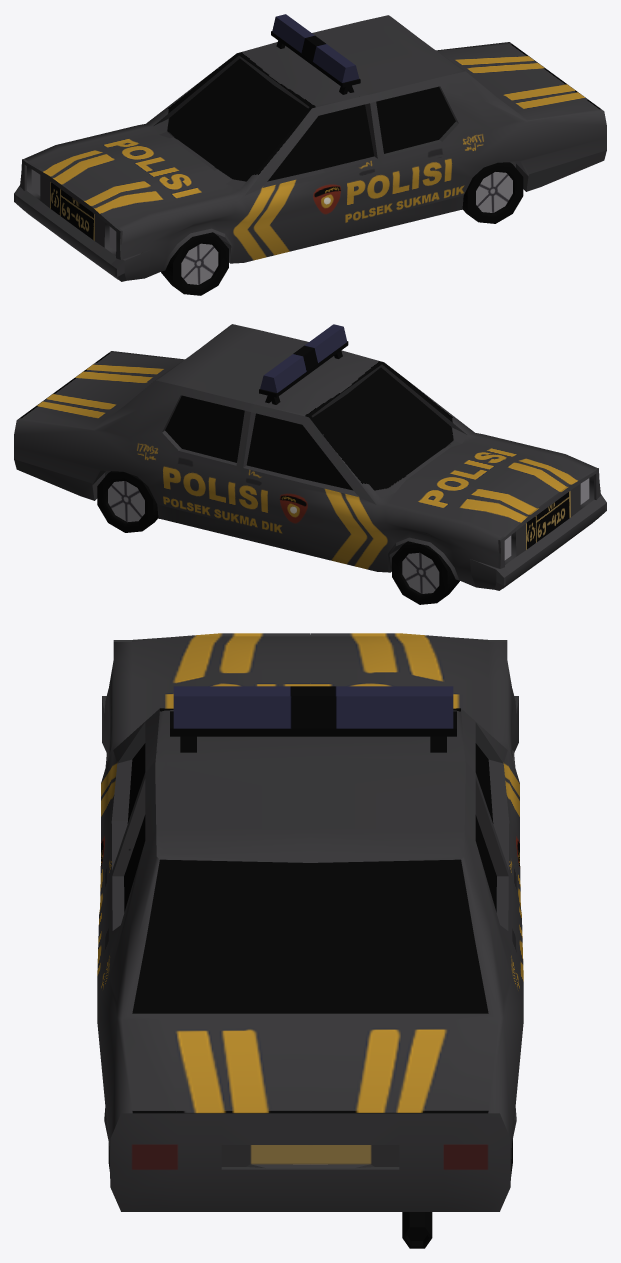
Rendered from P_CAR POLICE.fbx.
The picture shows the model from 3 angles, top to bottom: view 1: azimuth 30°, elevation 25°; view 2: azimuth 150°, elevation 25°; view 3: azimuth 270°, elevation 25°; orthographic projection. The views are drawn at different scales.
Visible parts, largest first — view 1: Car_Police; view 2: Car_Police; view 3: Car_Police.
Boxes of the visible parts, bbox=[...] form: Car_Police: bbox=[14, 14, 606, 295]; Car_Police: bbox=[14, 324, 606, 604]; Car_Police: bbox=[97, 633, 523, 1248].
Size of the model in its own units: 706 by 240 by 261.
